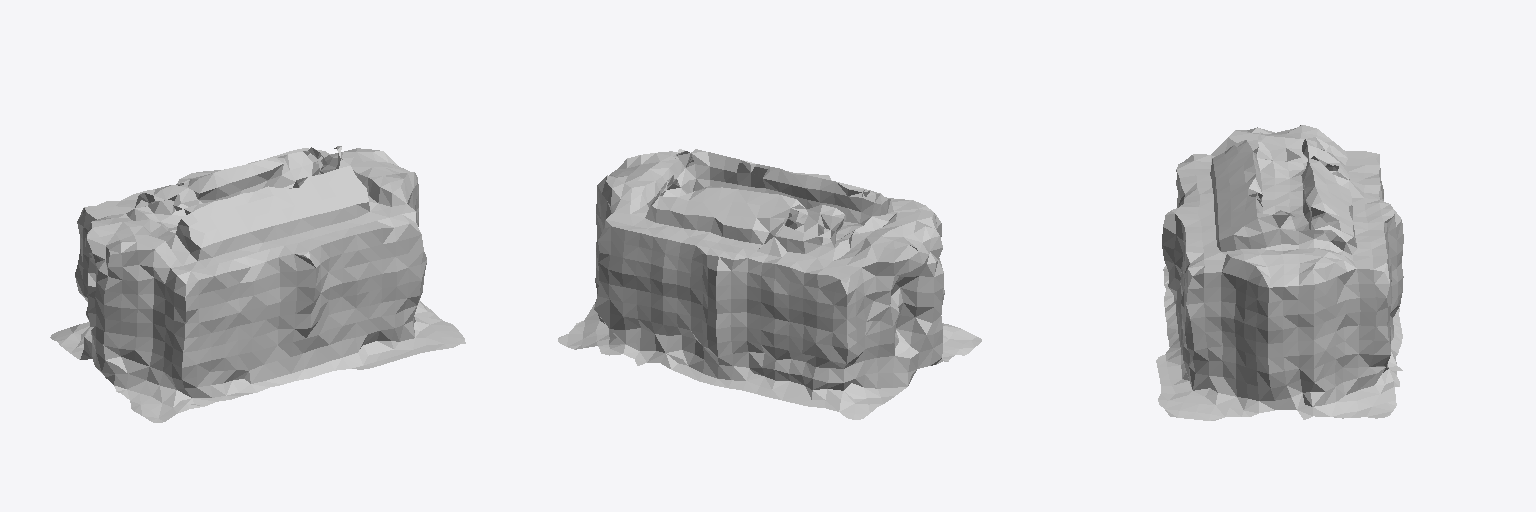
Rendered from perpus.obj.
3 renders of one model, left to right at view 1: azimuth 30°, elevation 25°; view 2: azimuth 150°, elevation 25°; view 3: azimuth 270°, elevation 25°, orthographic.
Bounding box in the file's own units: 3.63 × 1.84 × 2.37.